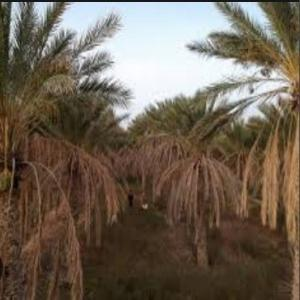palm tree: (185, 0, 299, 299), (128, 88, 248, 269)
